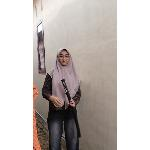Pedang: (57, 77, 83, 139)
